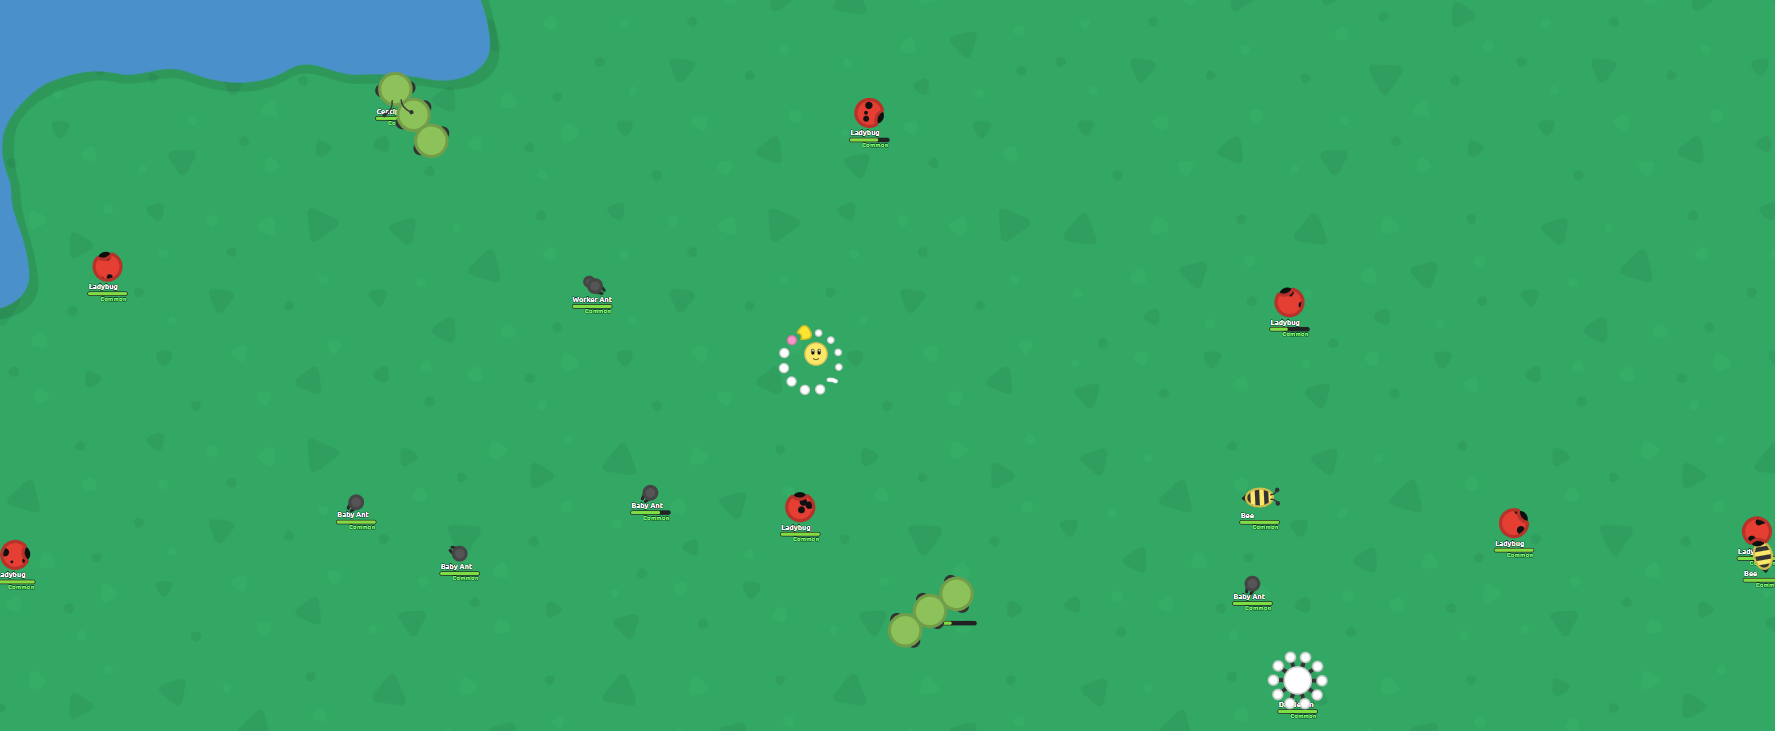Baby Ant: (344, 492, 366, 515), (446, 544, 470, 564), (638, 484, 659, 504), (1242, 574, 1261, 594)
Bee: (1239, 489, 1277, 509), (1751, 541, 1773, 572)
Centipede: (883, 612, 922, 649), (391, 98, 434, 131), (374, 73, 416, 106), (911, 593, 947, 631), (411, 125, 452, 158), (940, 575, 974, 613)
Dandelion: (1267, 651, 1327, 713)
Ladybug: (87, 251, 125, 284), (783, 490, 817, 525), (851, 96, 886, 129), (1498, 506, 1531, 541), (1272, 285, 1305, 318), (0, 539, 32, 572), (1740, 515, 1772, 547)
Worker Ant: (582, 274, 607, 296)
